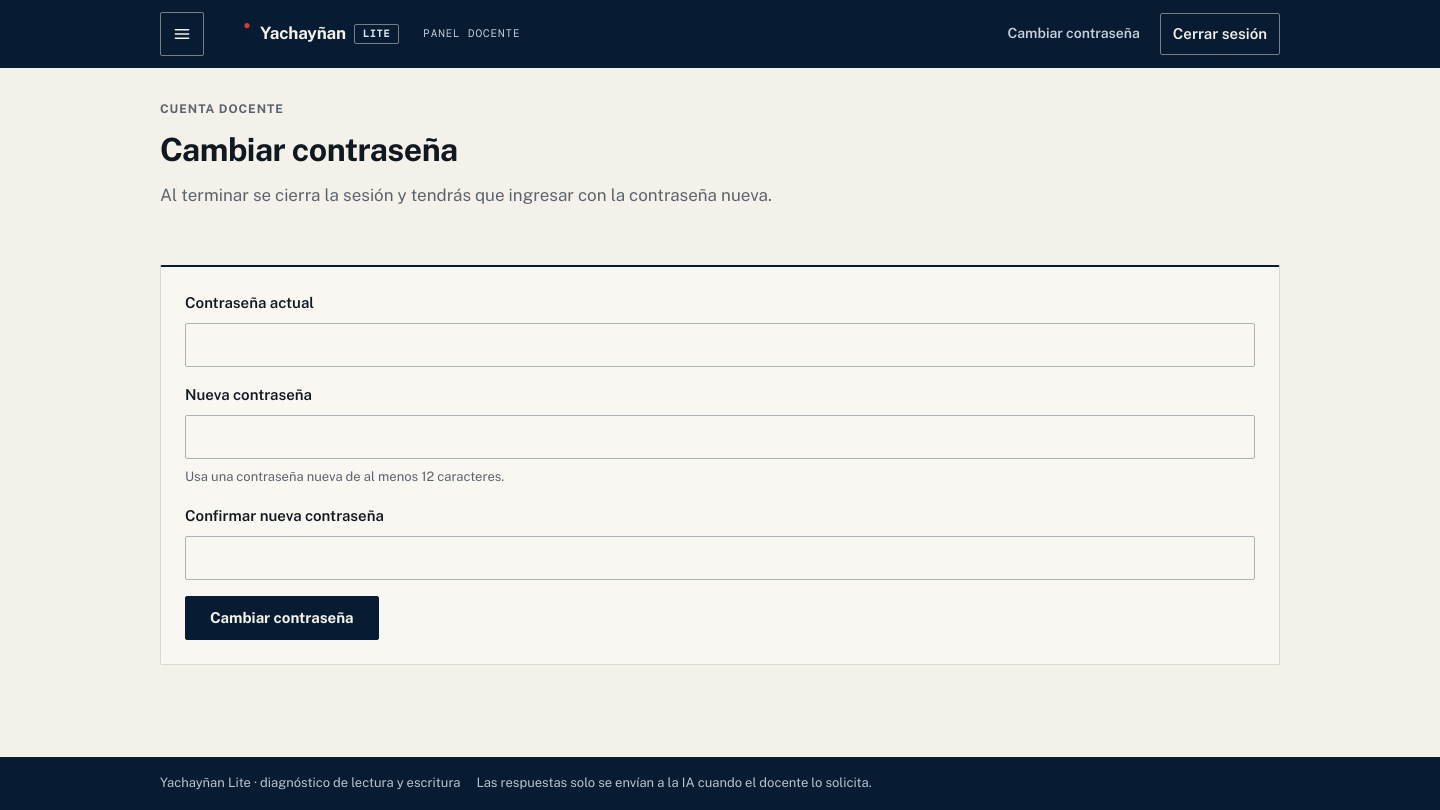
Test case: App › exige que la nueva contraseña tenga al menos 12 caracteres
Expected: the form named "Cambio de contraseña docente" is shown, left=185, top=291, right=1255, bottom=640
Type "actual-secreta" into the password field labelled "Contraseña actual" at (720, 345), box left=185, top=323, right=1255, bottom=367
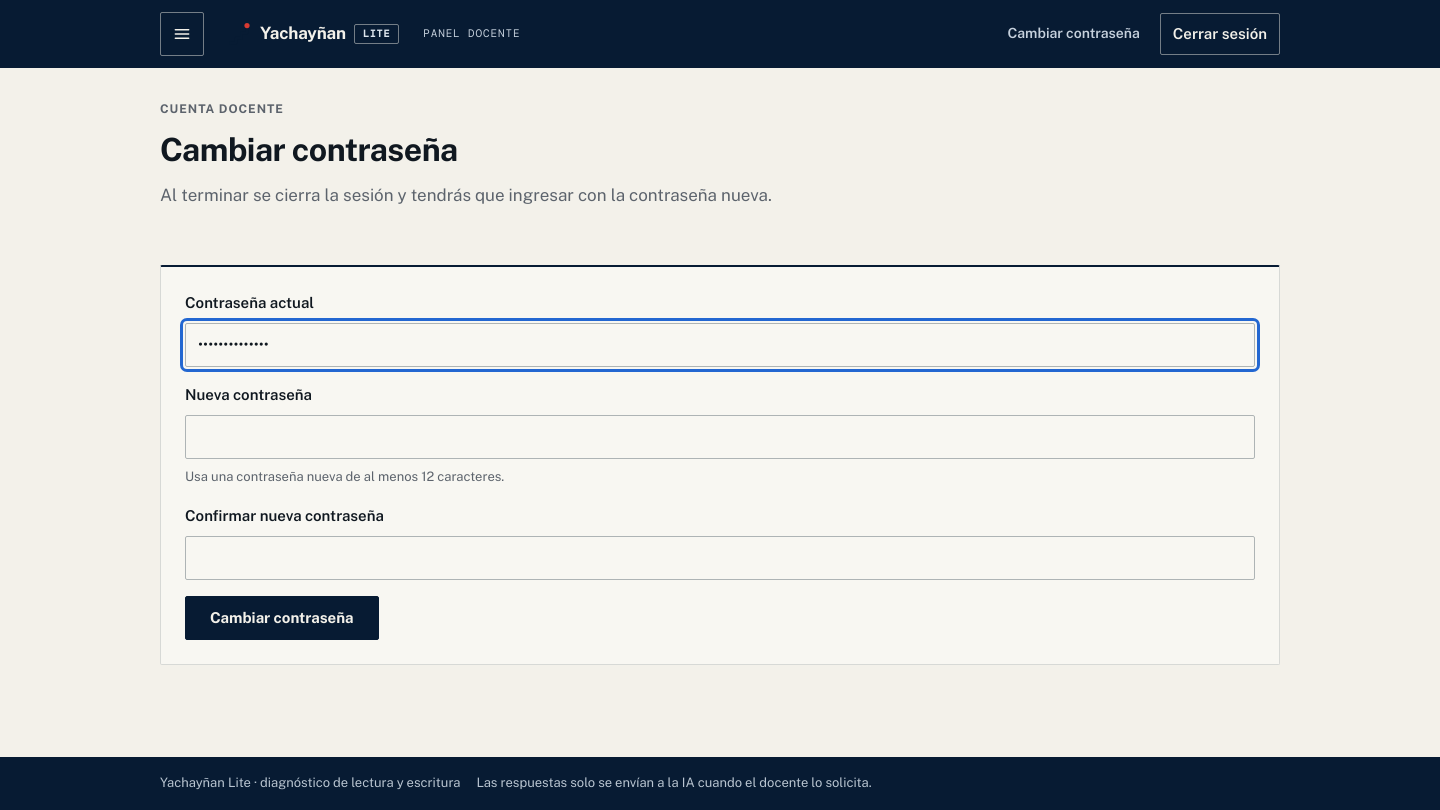
Type "muy-corta" into the password field labelled "Nueva contraseña" at (720, 437), box left=185, top=415, right=1255, bottom=459
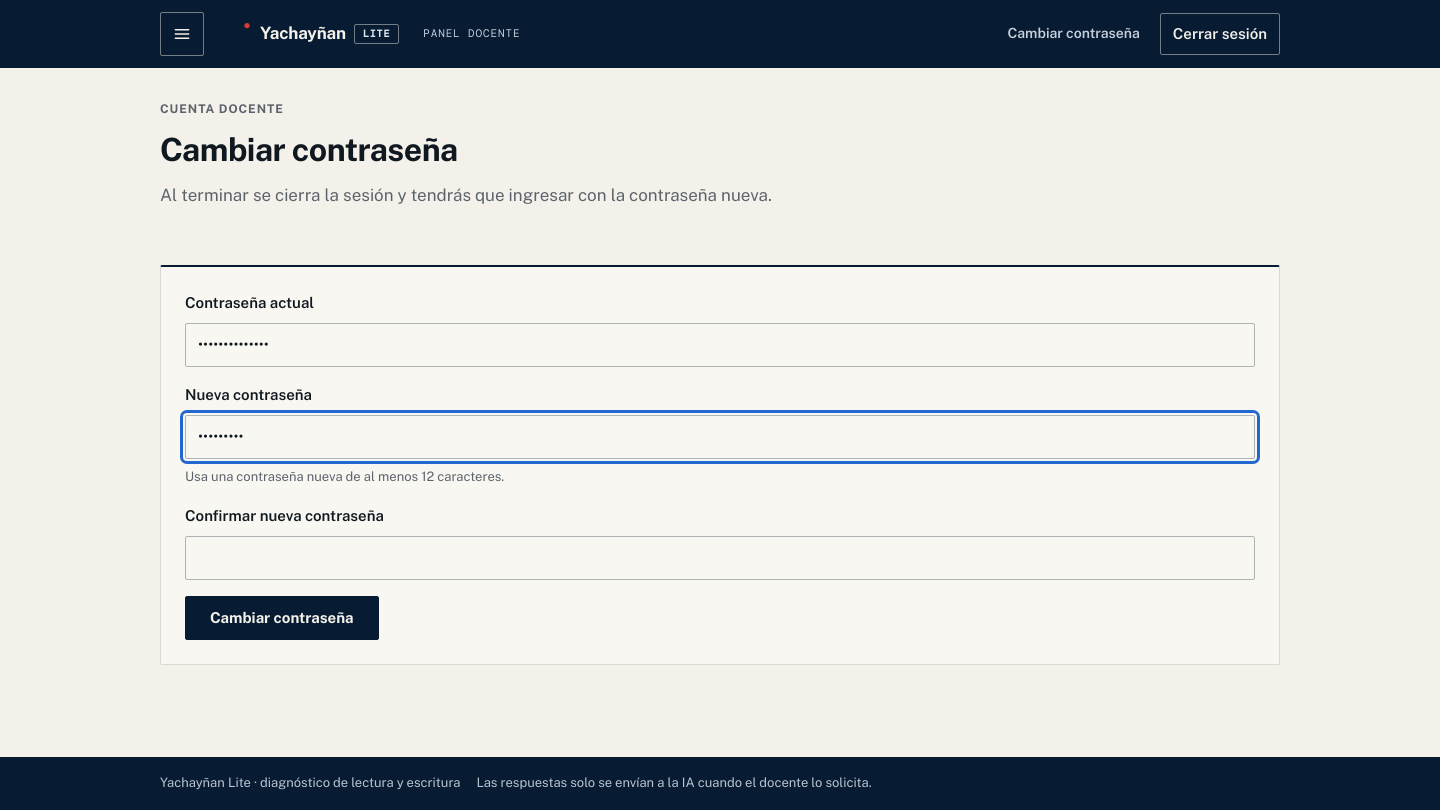
Type "muy-corta" into the password field labelled "Confirmar nueva contraseña" at (720, 558), box left=185, top=536, right=1255, bottom=580
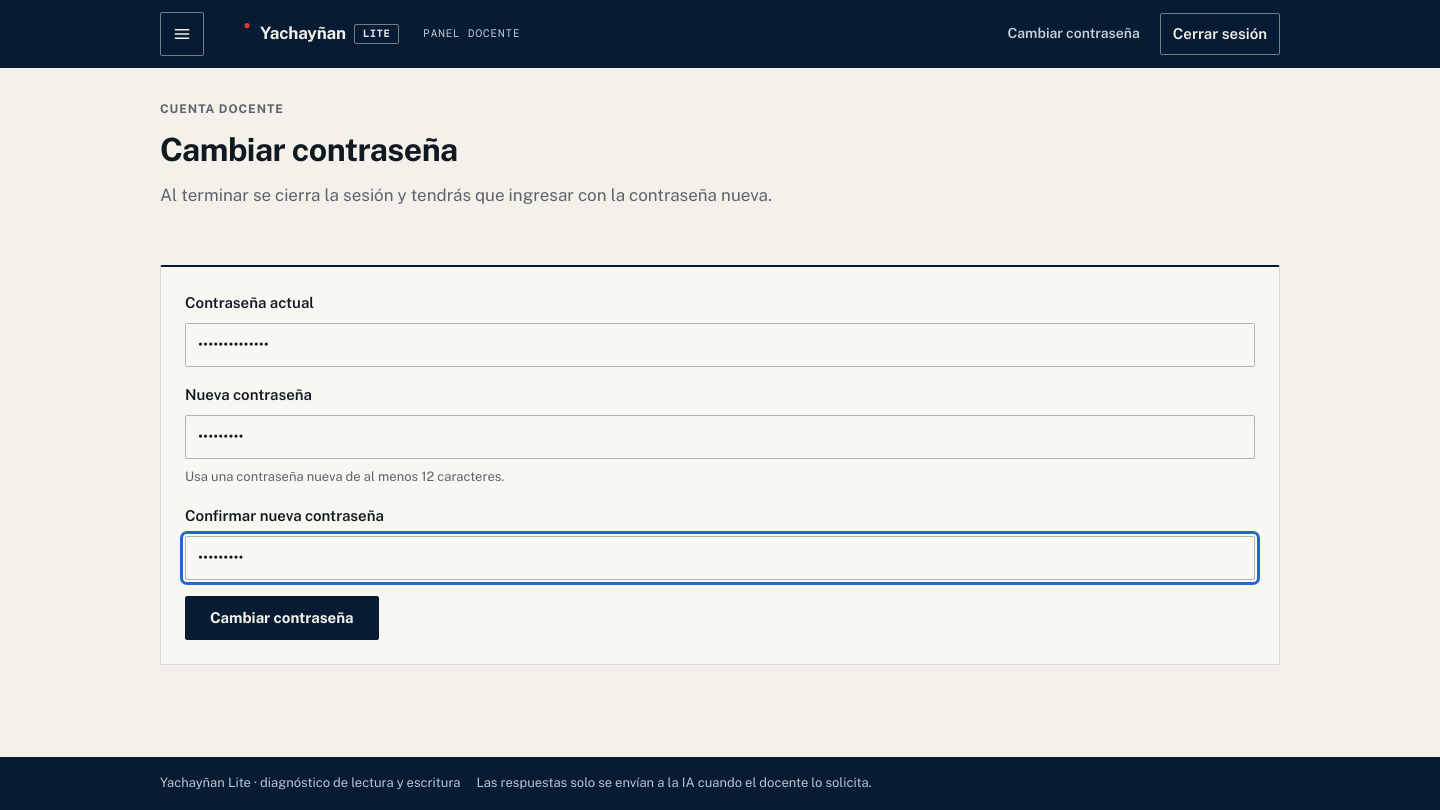
Click the button "Cambiar contraseña" at (282, 618), box left=185, top=596, right=379, bottom=640
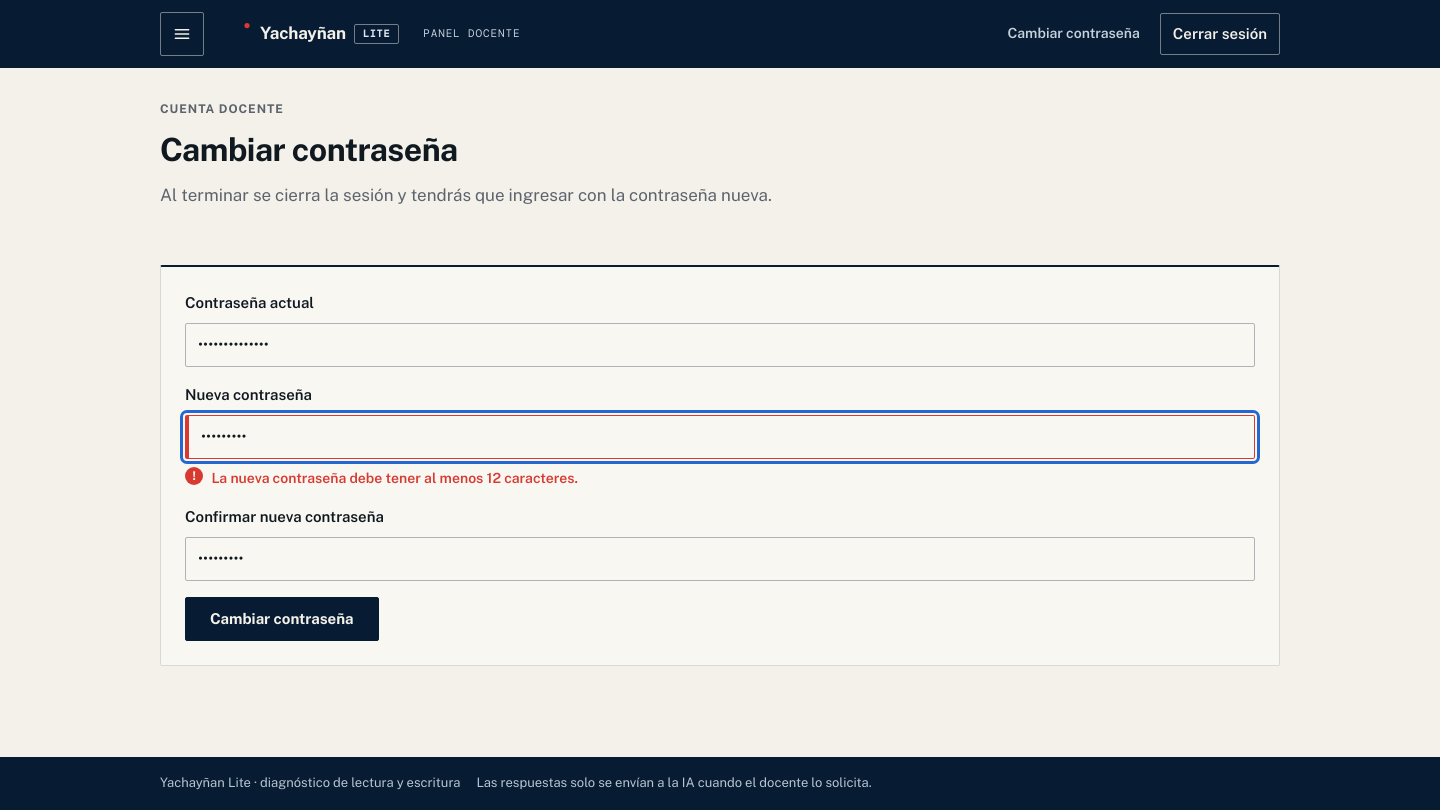
Expected: the text "La nueva contraseña debe tener al menos 12 caracteres." is shown, left=211, top=470, right=578, bottom=486
